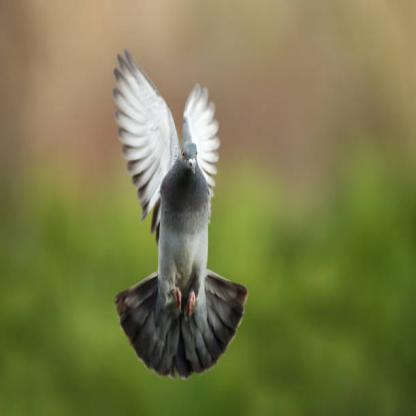Flying Rat: (100, 62, 237, 376)
